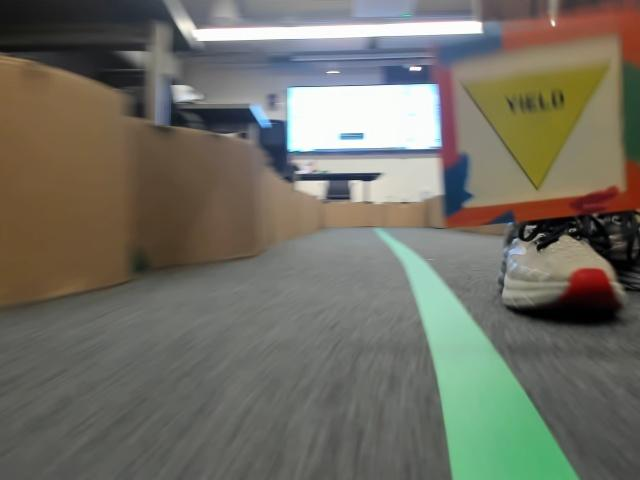Yield: (454, 83, 611, 200)
